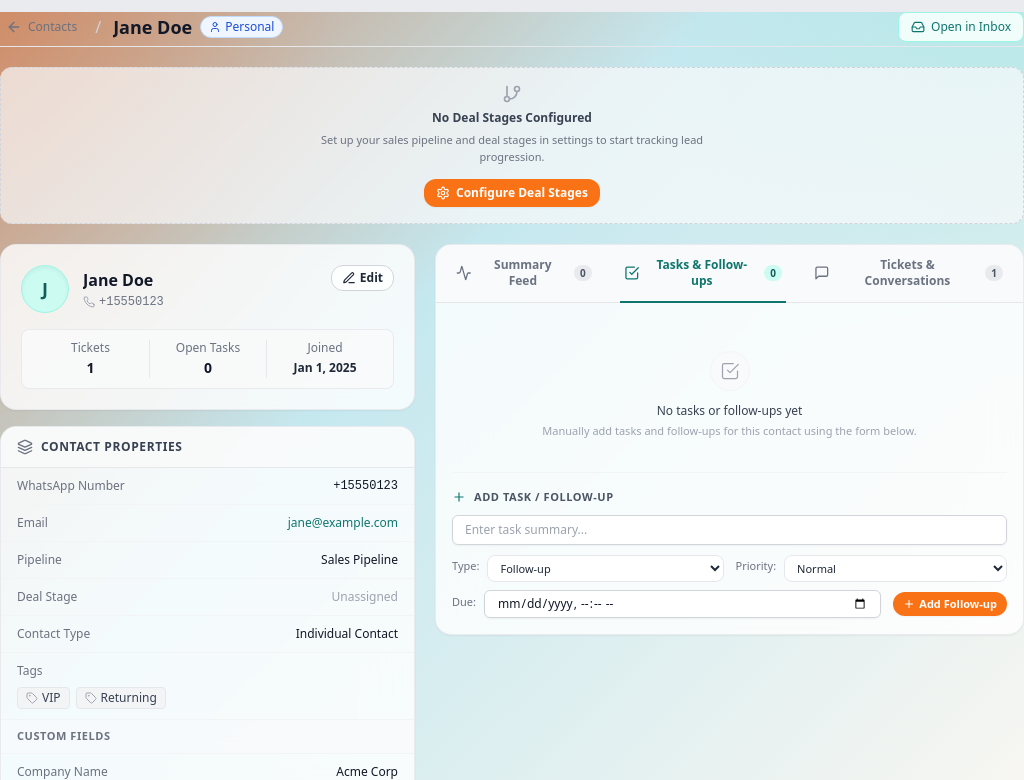
Test: ContactDetail › adds a task and it appears in the task list with compact fonts
Add a task
Type "Send contract to client" into the field with placeholder "Enter task summary...".
click(730, 530); type("Send contract to client")  # box 452,515 -> 1007,545
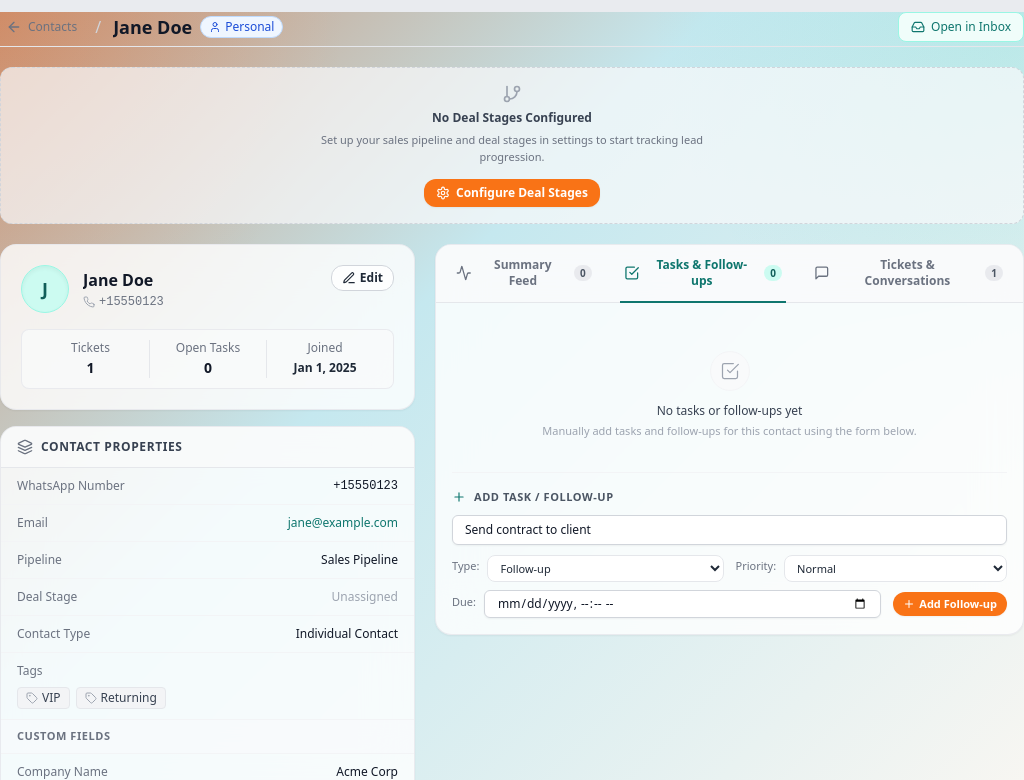
Click the button "Add Follow-up".
click(950, 604)  # box 893,592 -> 1007,616
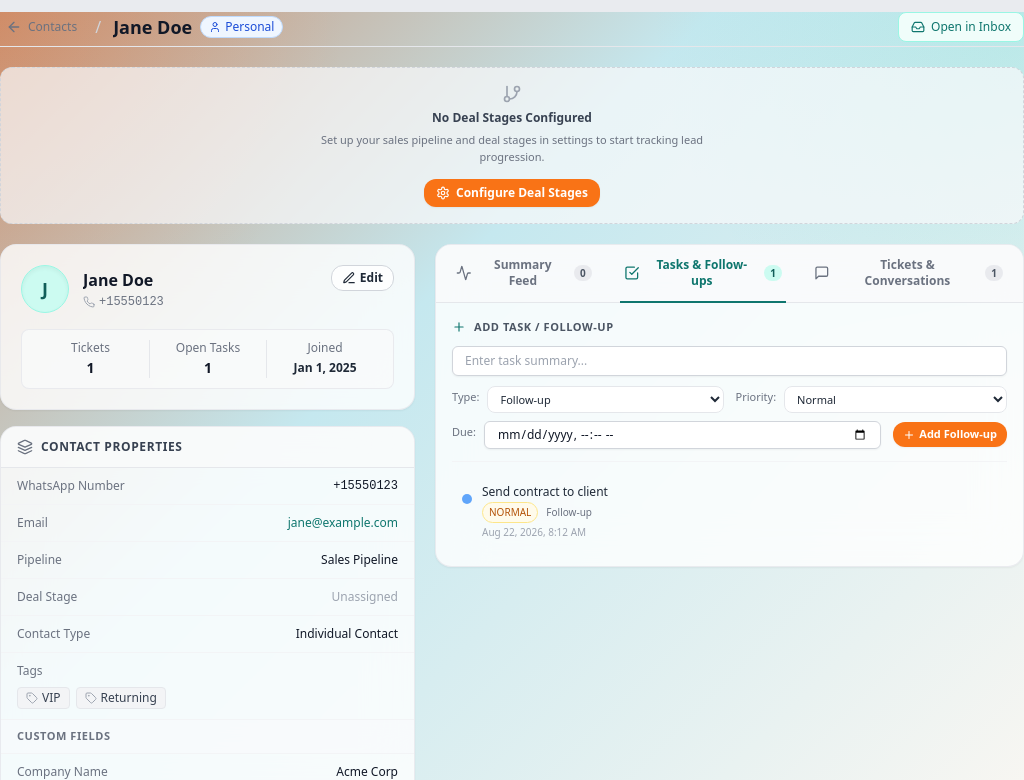
Now the text "Send contract to client" is shown, box 482,482 -> 608,500
Now the text "NORMAL" is shown, box 482,502 -> 538,523
